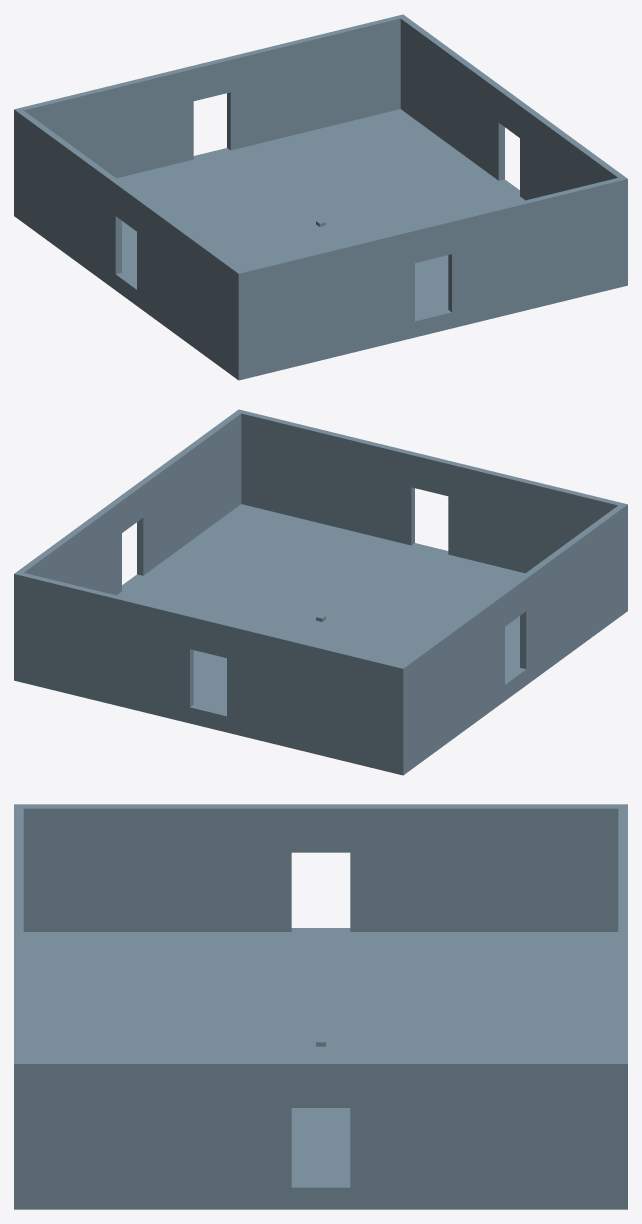
File: RoomScale02.obj
3 views of the same model, one above another, from view 1: azimuth 30°, elevation 25°; view 2: azimuth 150°, elevation 25°; view 3: azimuth 270°, elevation 25° (orthographic). The views are drawn at different scales.
Bounding box in the file's own units: 12.6 × 3.3 × 12.6.
Materials: 1 (1 with a texture image).
